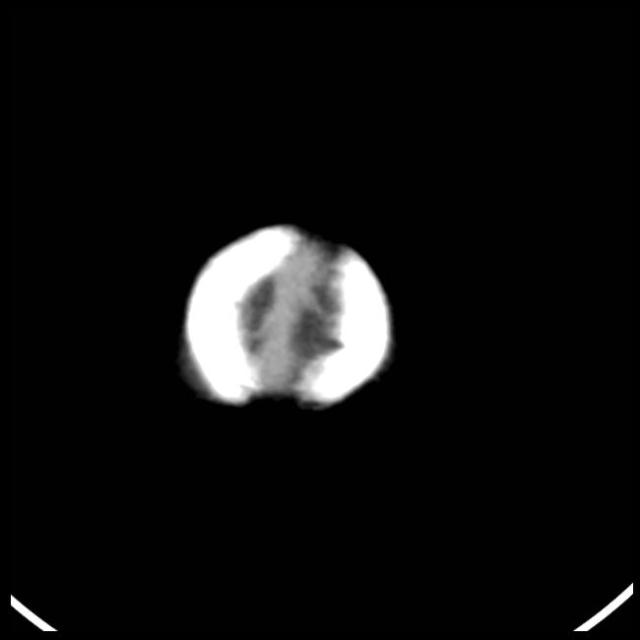lesion: (173, 218, 398, 414)
